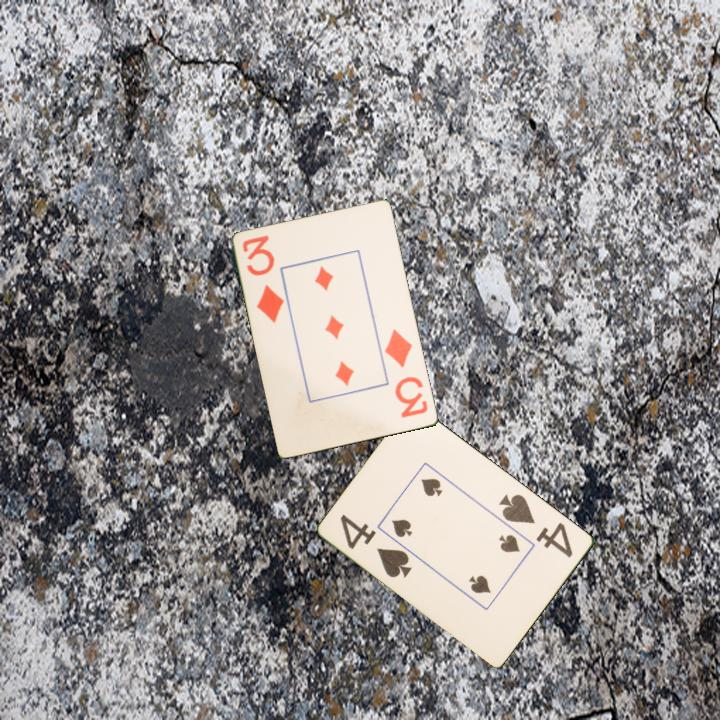3d: (381, 325, 431, 421), (239, 232, 287, 326)
4s: (496, 490, 576, 561), (337, 511, 416, 581)
